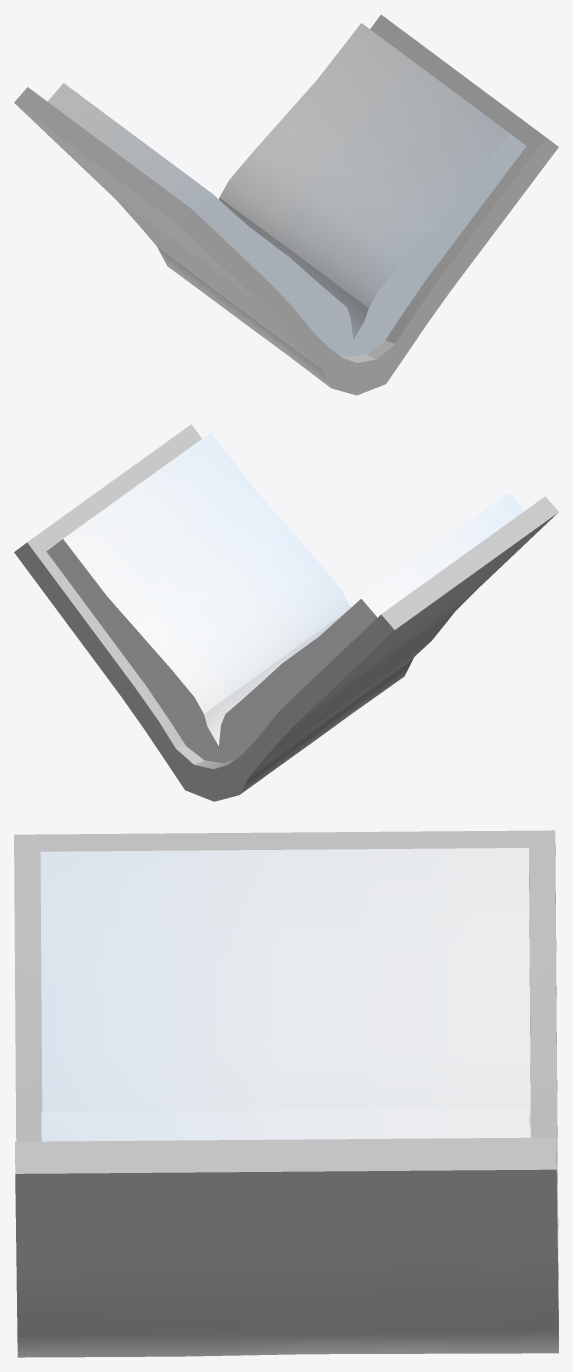
File: Book.fbx
3 renders of one model, top to bottom at view 1: azimuth 30°, elevation 25°; view 2: azimuth 150°, elevation 25°; view 3: azimuth 270°, elevation 25°, orthographic. The views are drawn at different scales.
Parts seen in each view (by area): view 1: book; view 2: book; view 3: book.
Boxes of the visible parts, left/top/right/bottom form: book: left=14, top=14, right=558, bottom=395; book: left=14, top=424, right=558, bottom=801; book: left=14, top=830, right=558, bottom=1357.
Bounding box in the file's own units: 0.4874 × 0.2843 × 0.3672.
Materials: 2 (1 with a texture image).
